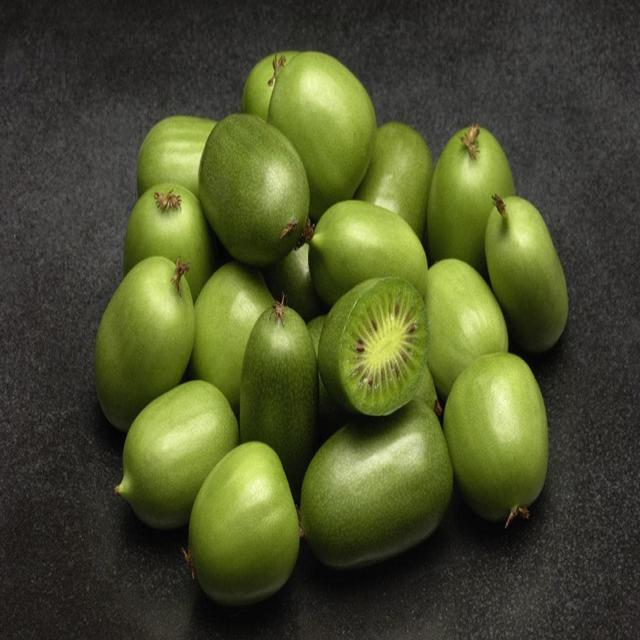kiwi: (94, 51, 568, 606), (300, 398, 454, 570), (187, 439, 301, 606), (266, 50, 377, 220), (114, 378, 238, 530), (442, 351, 549, 527), (93, 254, 195, 432), (198, 111, 310, 266), (238, 293, 318, 499), (317, 275, 429, 417), (484, 192, 568, 354), (426, 123, 514, 277), (190, 260, 275, 414), (307, 198, 428, 306), (424, 257, 508, 400), (122, 181, 215, 302), (354, 120, 433, 242), (136, 114, 218, 200), (266, 242, 321, 320), (241, 49, 299, 122)
